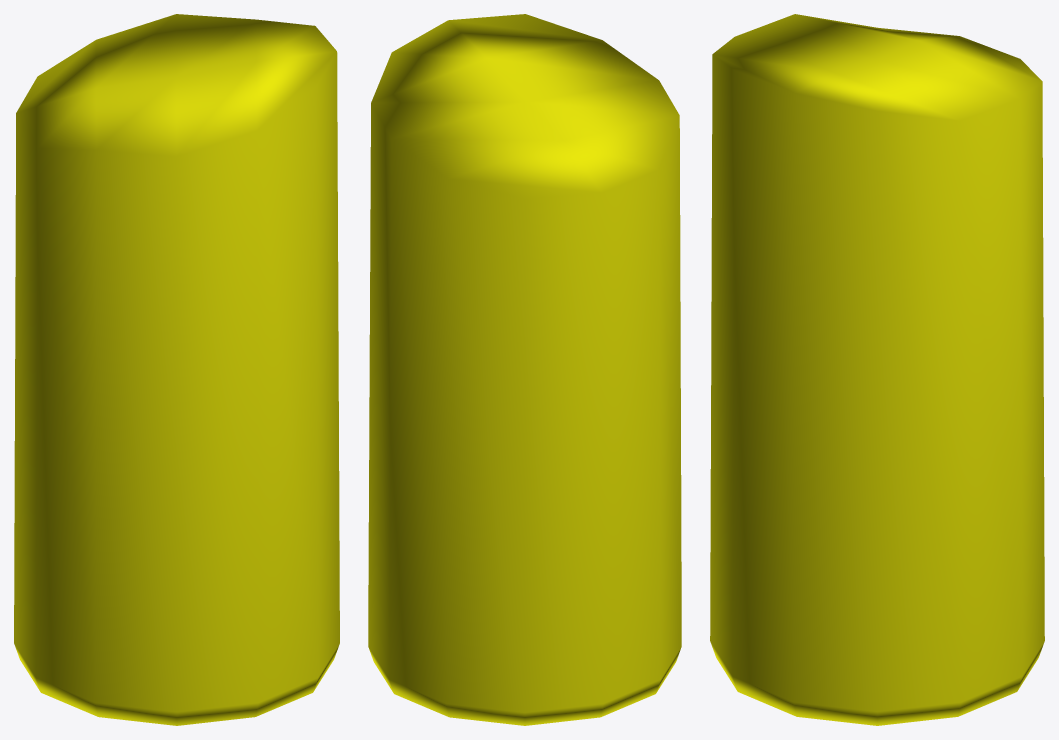
The model's file is B_Pillar_02_B_Break.fbx.
The picture shows the model from 3 angles, left to right: view 1: azimuth 30°, elevation 25°; view 2: azimuth 150°, elevation 25°; view 3: azimuth 270°, elevation 25°; orthographic projection. The views are drawn at different scales.
Parts seen in each view (by area): view 1: B_Pillar_02_B_Break; view 2: B_Pillar_02_B_Break; view 3: B_Pillar_02_B_Break.
Part boxes in pixels (x1,y1,x2,y2): B_Pillar_02_B_Break: (14, 14, 339, 725); B_Pillar_02_B_Break: (368, 14, 681, 725); B_Pillar_02_B_Break: (710, 14, 1044, 725).
Size of the model in its own units: 61.69 by 127 by 61.69.
